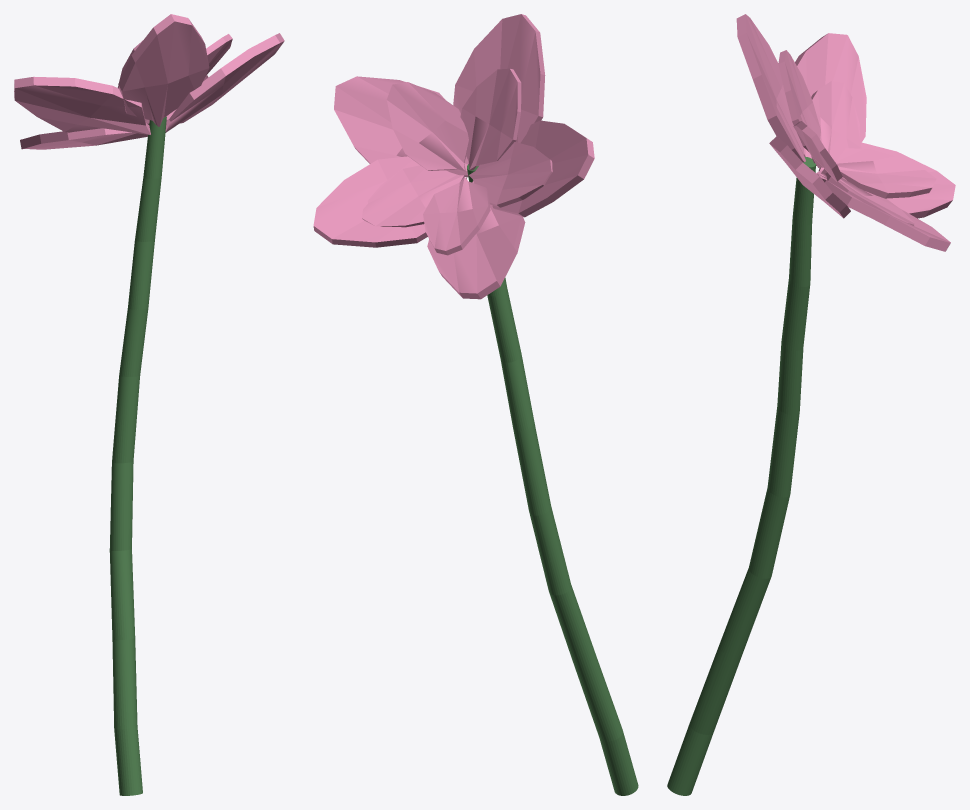
The model's file is Fllower 1.fbx.
3 views of the same model, side by side, from view 1: azimuth 30°, elevation 25°; view 2: azimuth 150°, elevation 25°; view 3: azimuth 270°, elevation 25° (orthographic). The views are drawn at different scales.
Visible parts, largest first — view 1: Object; view 2: Object; view 3: Object.
Part boxes in pixels (<box>): Object: <box>14,14,284,795</box>; Object: <box>313,14,638,795</box>; Object: <box>667,14,955,795</box>.
Bounding box in the file's own units: 10.85 × 29.98 × 9.61.
